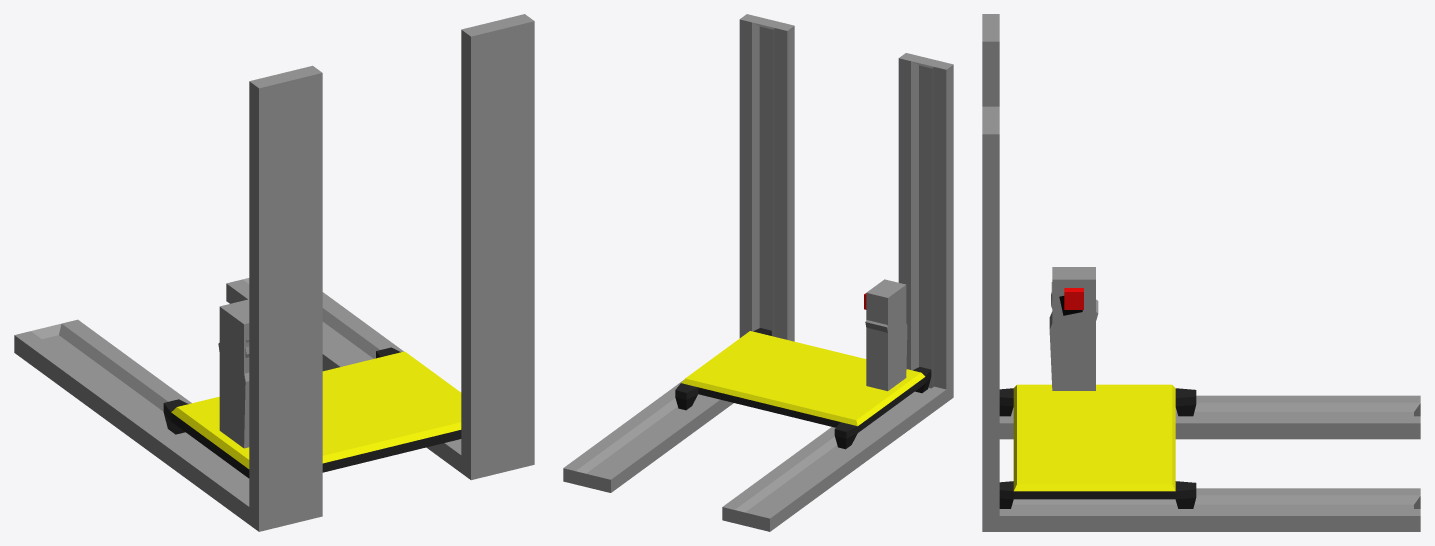
File: Platform.glb
3 views of the same model, side by side, from view 1: azimuth 30°, elevation 25°; view 2: azimuth 150°, elevation 25°; view 3: azimuth 270°, elevation 25° (orthographic). The views are drawn at different scales.
Visible parts, largest first — view 1: Platform.Track.Vert, Platform.Track.Hori, Platform.BodyV2, Platform.Control, Platform.Control.Broken; view 2: Platform.Track.Vert, Platform.Track.Hori, Platform.BodyV2, Platform.Control; view 3: Platform.Track.Hori, Platform.BodyV2, Platform.Track.Vert, Platform.Control, Platform.Control.Broken.
Part boxes in pixels (x1,y1,x2,y2): Platform.Track.Vert: [249, 14, 534, 531]; Platform.Track.Hori: [14, 278, 534, 530]; Platform.BodyV2: [163, 347, 461, 478]; Platform.Control: [219, 299, 249, 447]; Platform.Control.Broken: [218, 338, 249, 448]; Platform.Track.Vert: [739, 14, 953, 402]; Platform.Track.Hori: [563, 380, 946, 531]; Platform.BodyV2: [675, 328, 931, 449]; Platform.Control: [866, 279, 906, 391]; Platform.Track.Hori: [982, 395, 1420, 531]; Platform.BodyV2: [999, 384, 1196, 508]; Platform.Track.Vert: [982, 14, 999, 519]; Platform.Control: [1052, 267, 1095, 390]; Platform.Control.Broken: [1049, 282, 1098, 390].
Size of the model in its own units: 2.6 by 4 by 4.
